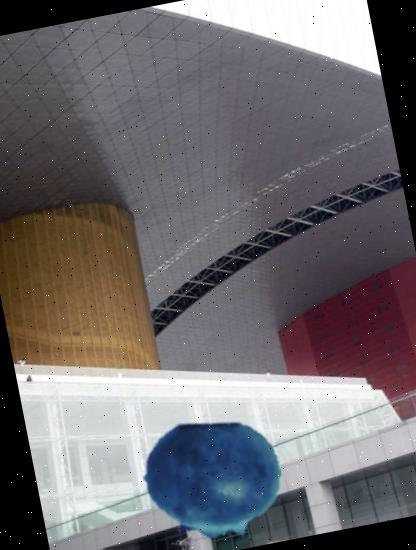Huckleberry: (131, 399, 293, 550)
